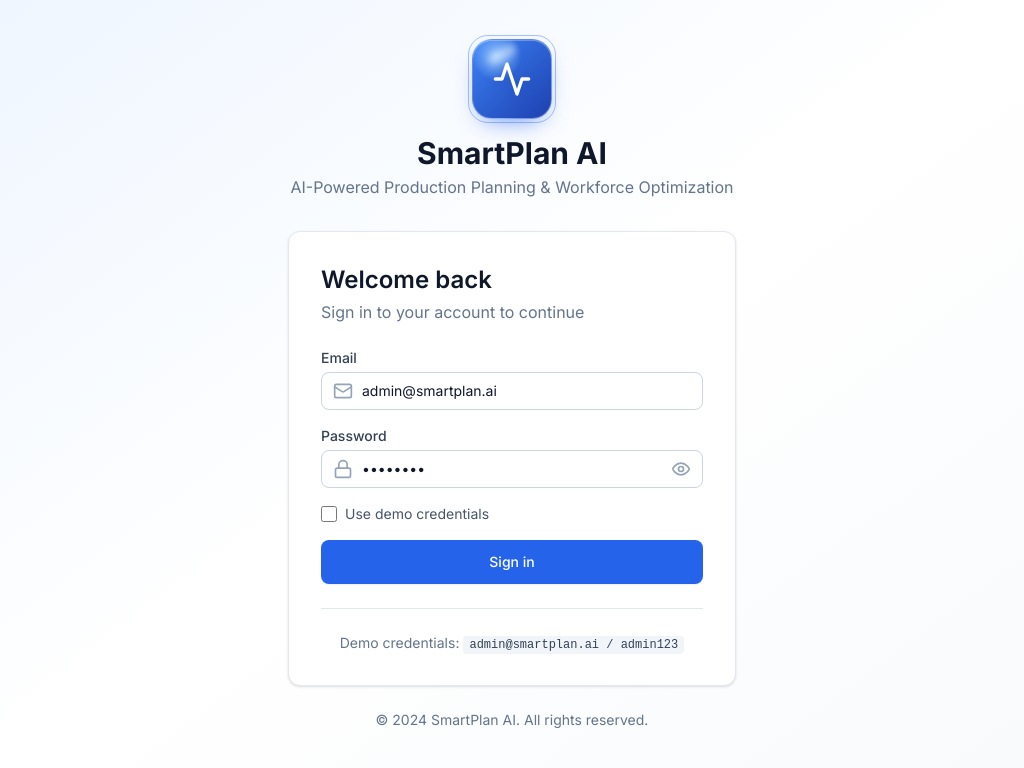
Test: B9 demo credentials › fills the demo account when ticked, even after the fields were cleared
The width and height of the screenshot is (1024, 768).
Clear the field labelled "Email": (512, 390) [321,372,703,410]
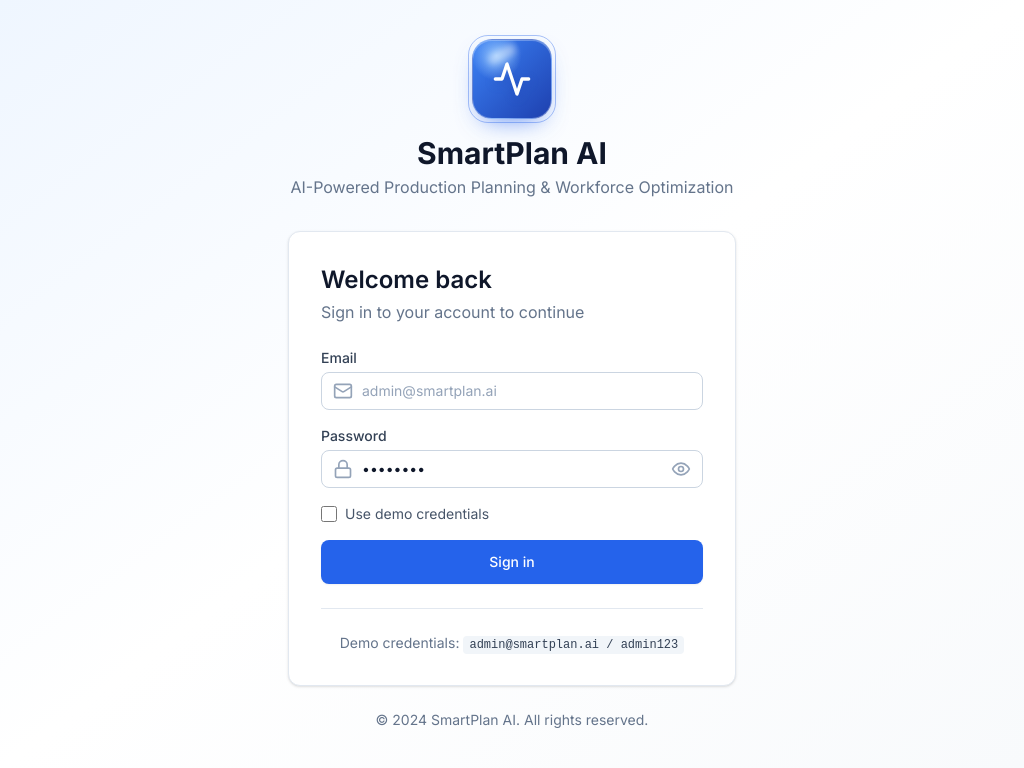
Clear the password field labelled "Password": (512, 468) [321,450,703,488]
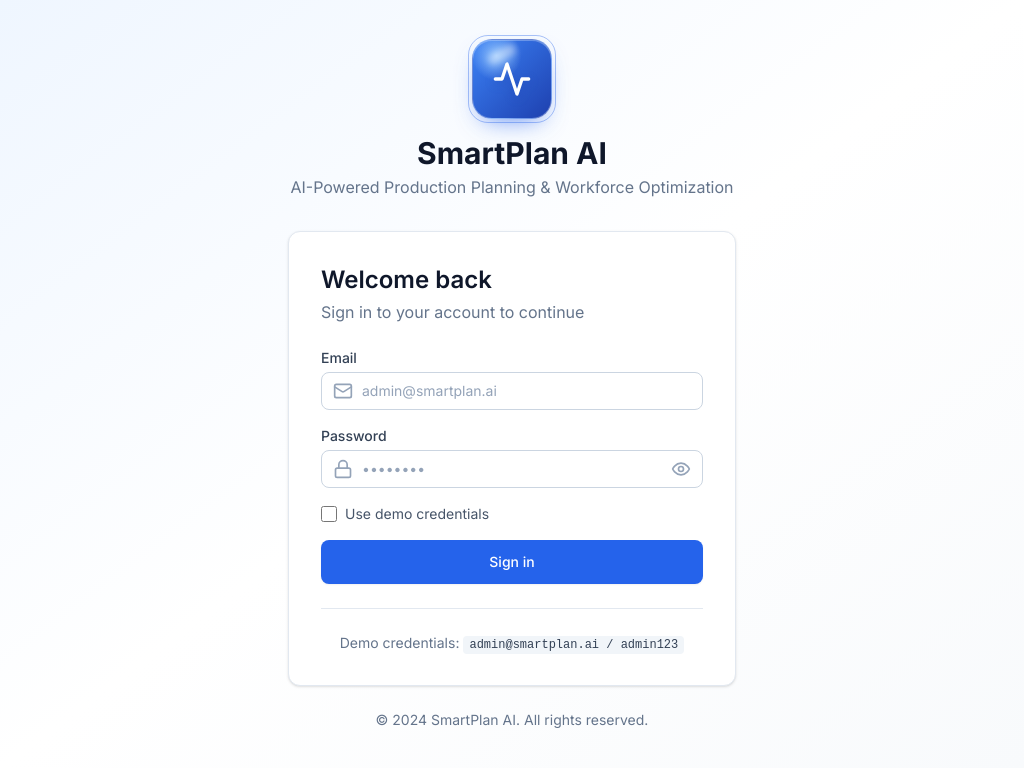
Click the checkbox labelled "Use demo credentials": (329, 514) [321,506,337,522]
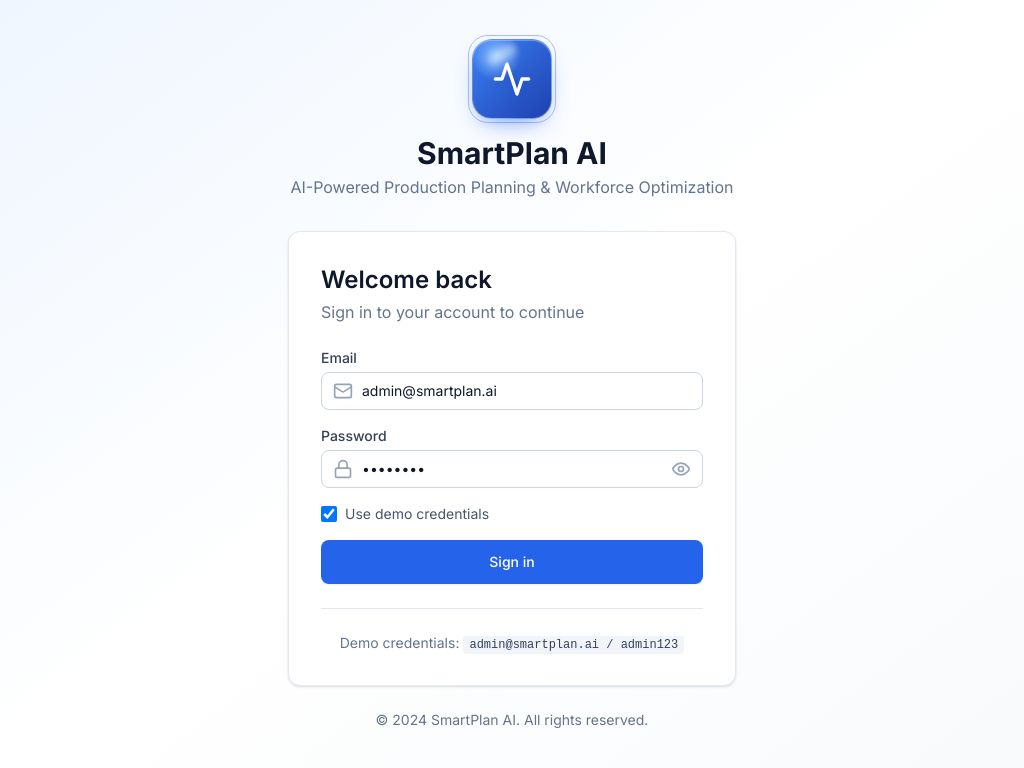
Check: the field labelled "Email" holds "admin@smartplan.ai", box [321,372,703,410]
Check: the password field labelled "Password" is not empty, box [321,450,703,488]
